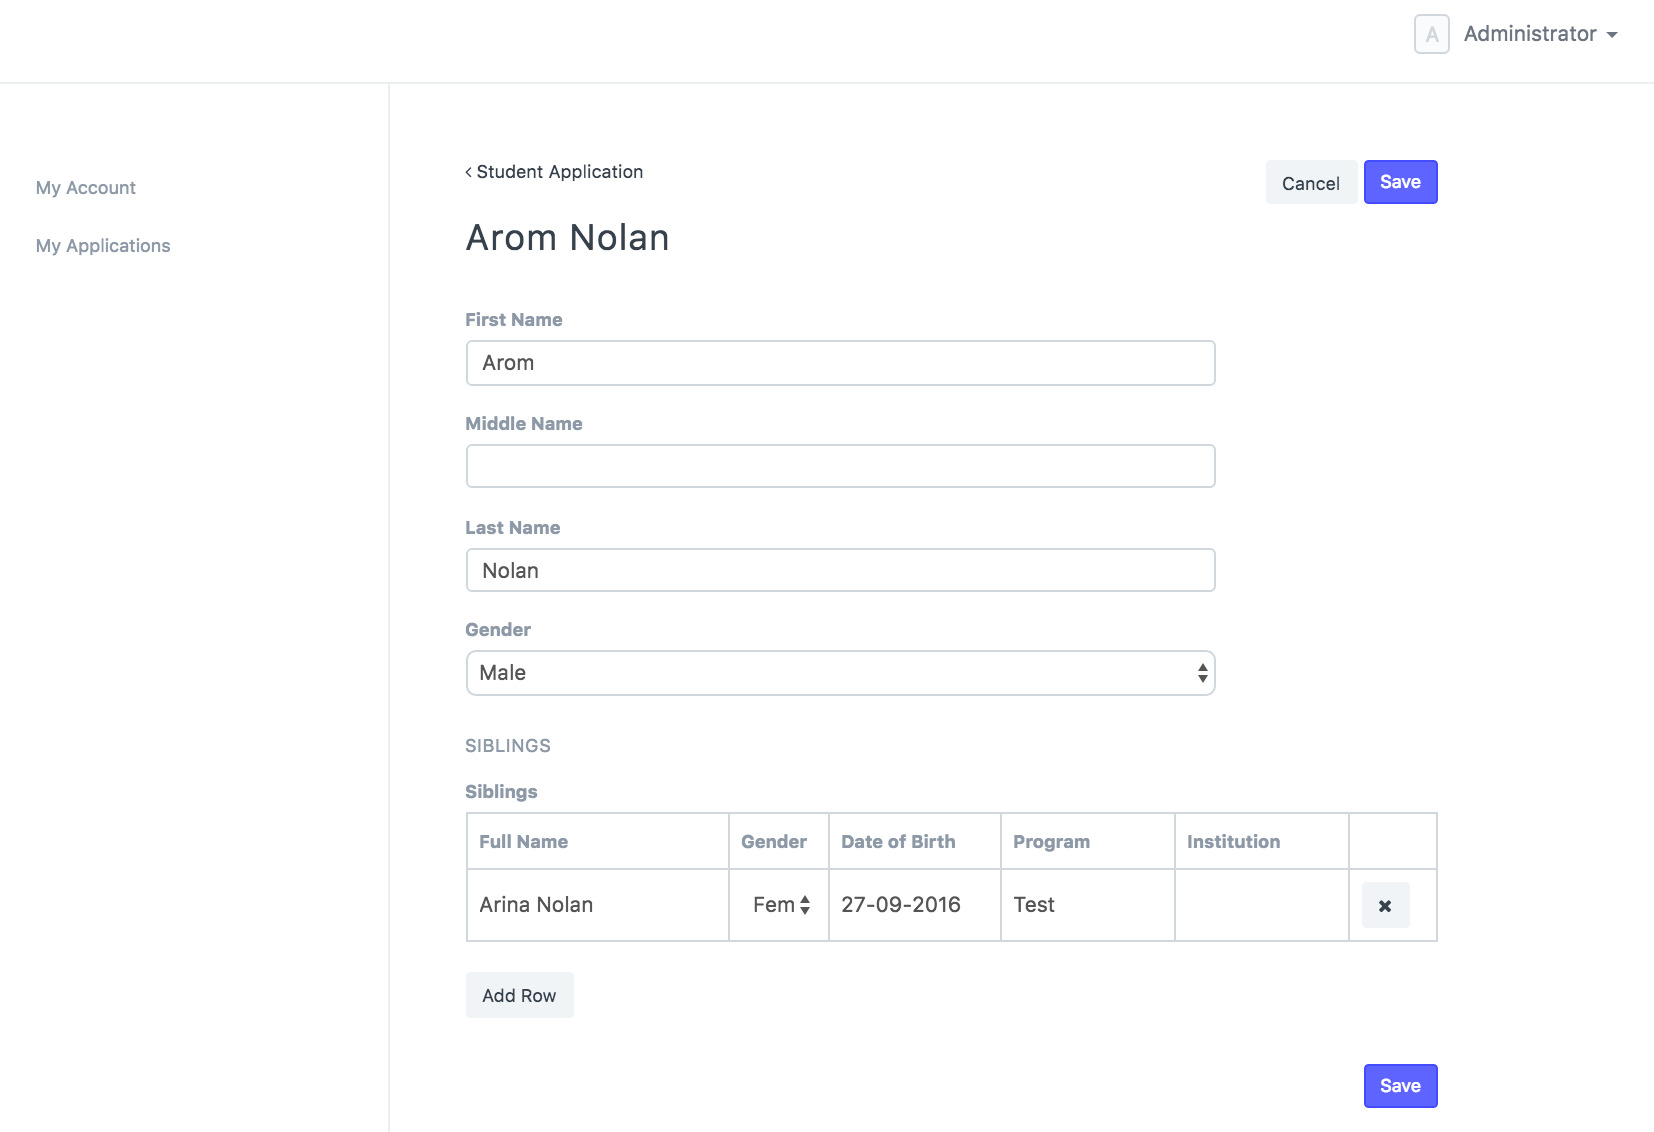_form_: (449, 302, 1246, 717), (1244, 118, 1489, 254), (1323, 1015, 1462, 1132)
button: (1360, 1062, 1443, 1114), (1362, 156, 1440, 209)
field: (463, 335, 1218, 388), (463, 548, 1220, 596), (463, 441, 1219, 489), (463, 648, 1218, 696)
field_with_label: (457, 308, 1222, 391), (460, 415, 1224, 494), (460, 621, 1222, 699), (460, 520, 1224, 597)
